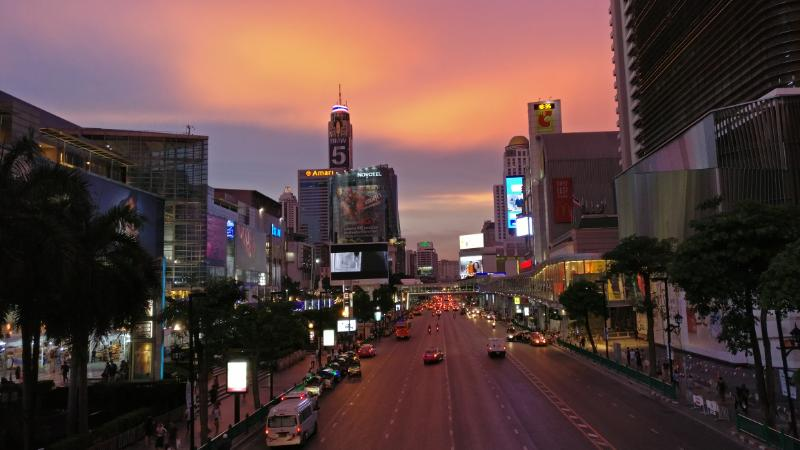car: (261, 396, 322, 445)
